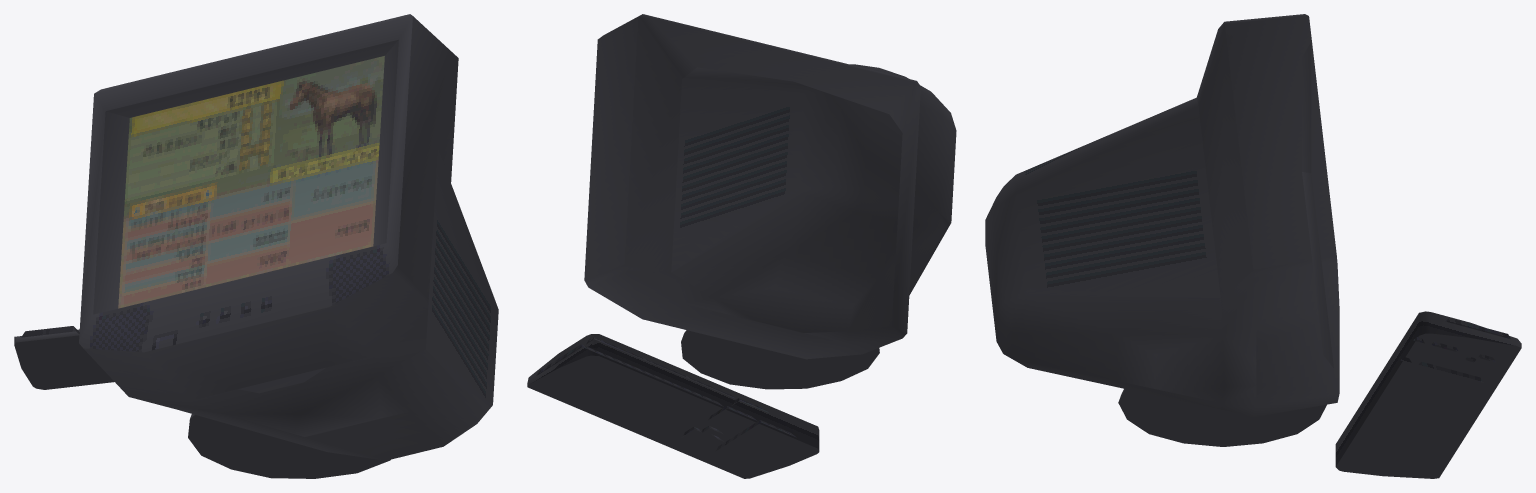
The model's file is ps2_save-icons_winningpost5maximum2003-edit.glb.
3 renders of one model, left to right at view 1: azimuth 30°, elevation 25°; view 2: azimuth 150°, elevation 25°; view 3: azimuth 270°, elevation 25°, orthographic. The views are drawn at different scales.
Parts seen in each view (by area): view 1: ic_edit.icn; view 2: ic_edit.icn; view 3: ic_edit.icn.
Part boxes in pixels (x1,y1,x2,y2): ic_edit.icn: (14, 14, 498, 478); ic_edit.icn: (527, 14, 956, 478); ic_edit.icn: (985, 14, 1521, 478).
Bounding box in the file's own units: 3.23 × 3.25 × 4.95.
1 material, 1 textured.
